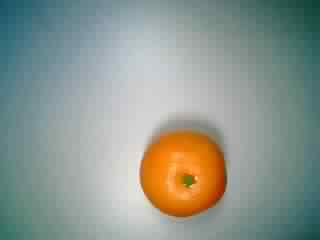orange: (131, 123, 228, 220)
